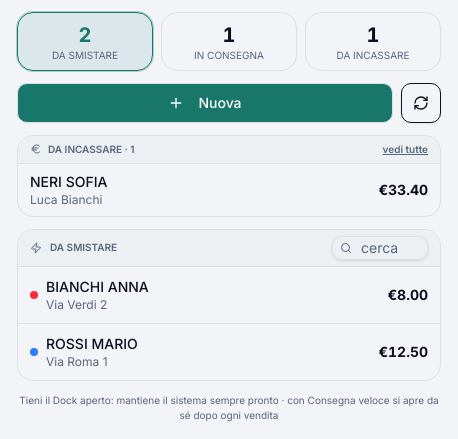
Dock: i contatori sono filtri veri › "In consegna" apre le consegne in corso, con fattorino e orario
This screenshot has width=458, height=439.
Click the button with test id "dock-contatore-in_consegna": coordinates (229, 41) [161,12,297,70]
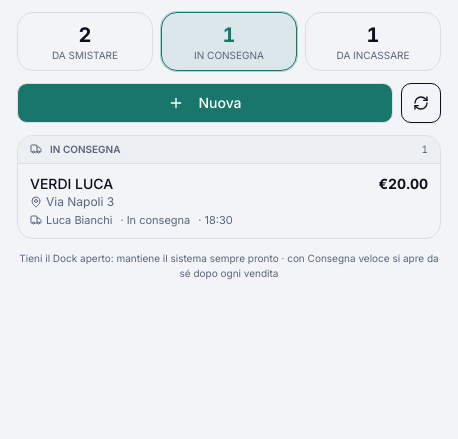
Expected: the element with test id "dock-elenco-in-consegna" shows "VERDI LUCA", [30,174,113,192]
Expected: the element with test id "dock-elenco-in-consegna" shows "Luca Bianchi", [46,212,112,226]
Expected: the element with test id "dock-elenco-in-consegna" shows "18:30", [204,212,233,226]
